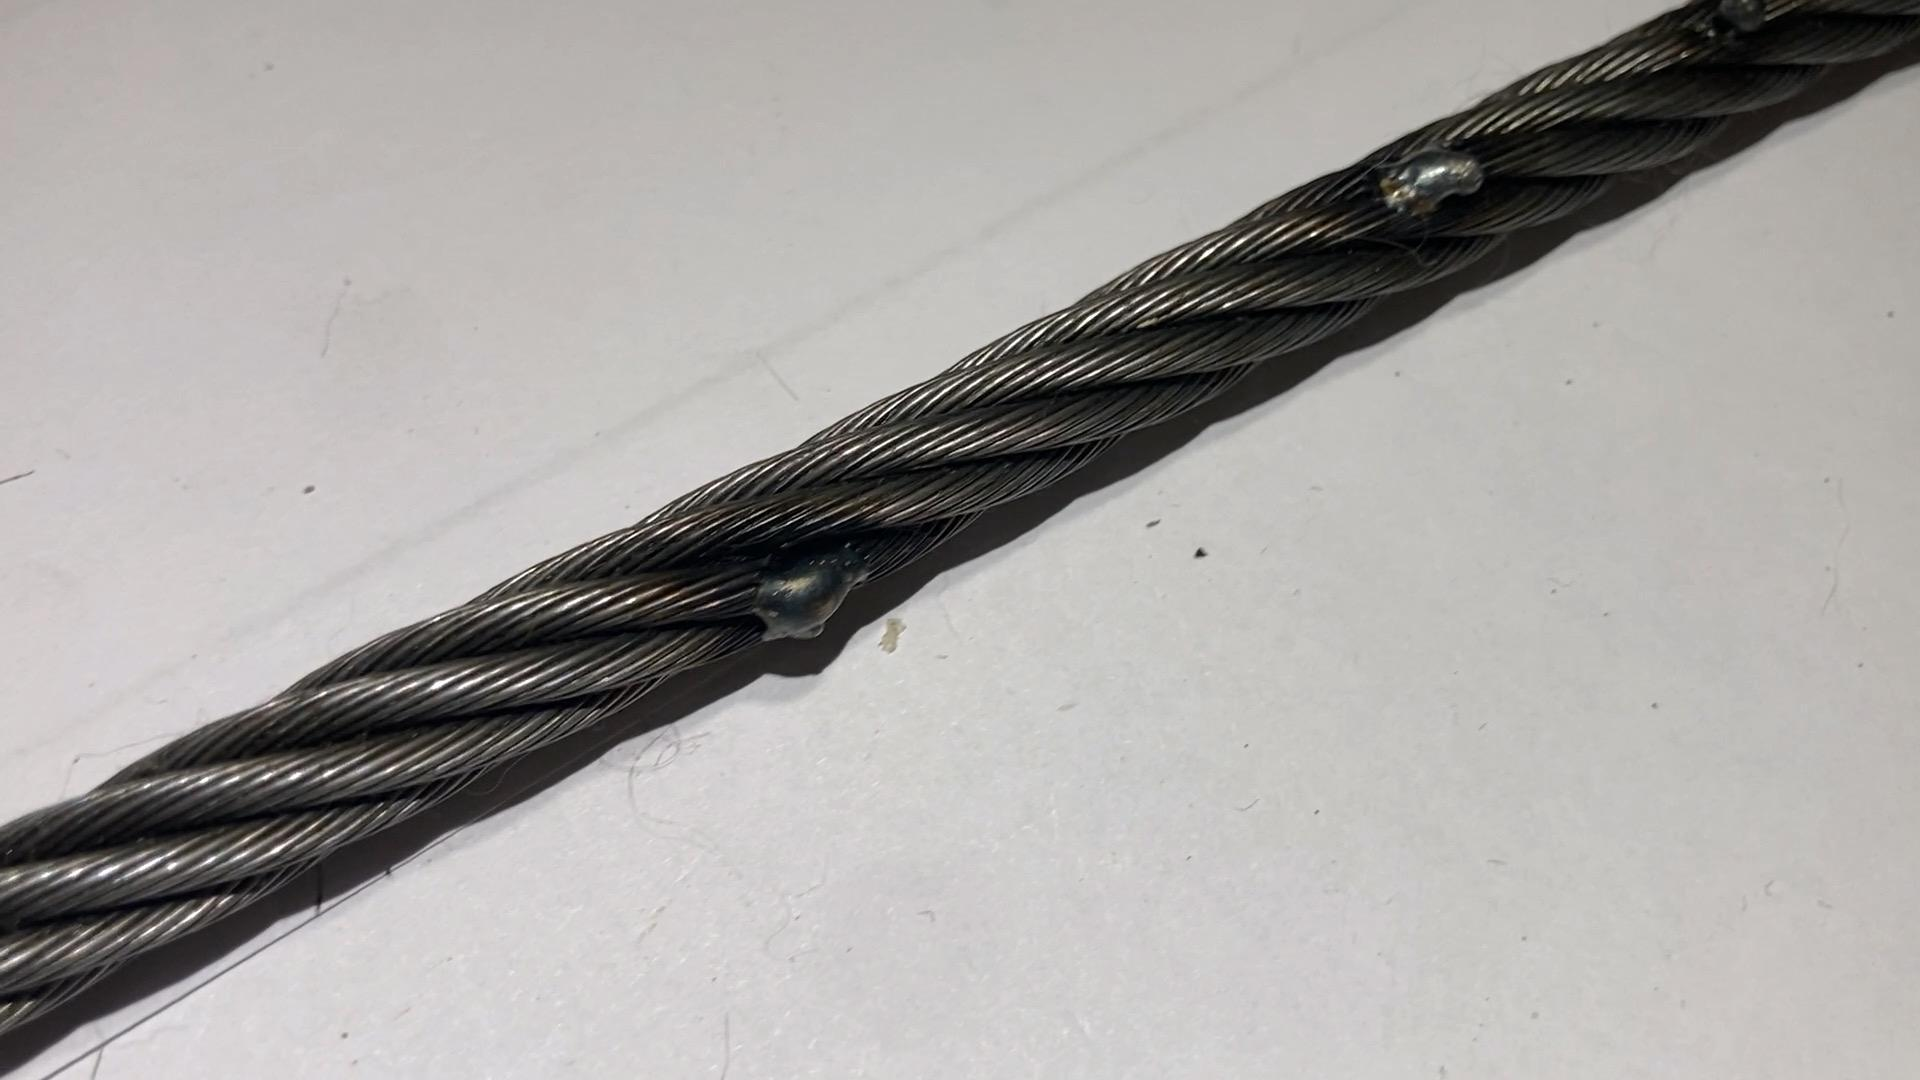thunderbolt: (748, 543, 868, 644), (1381, 153, 1503, 214)
